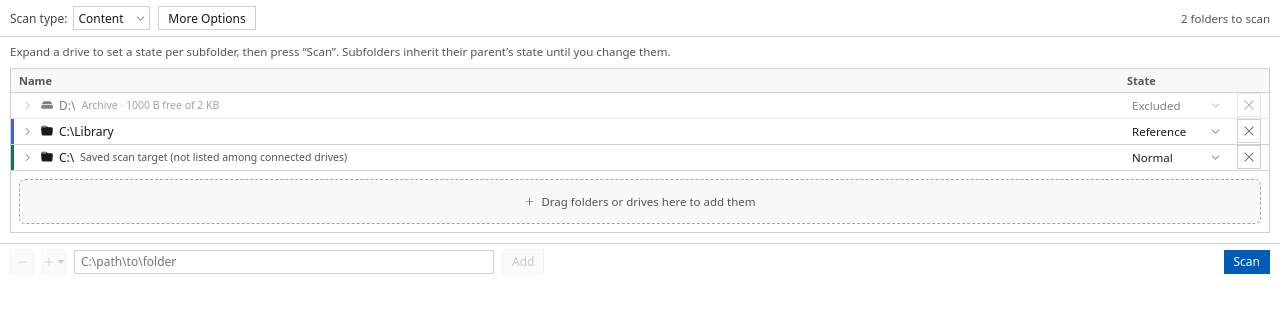
Test case: DuplicatesConfigPanel directory list › reports a folder that cannot be read
The width and height of the screenshot is (1280, 323).
Click the button named "Expand D:\\": (27, 105) [19, 97, 35, 113]
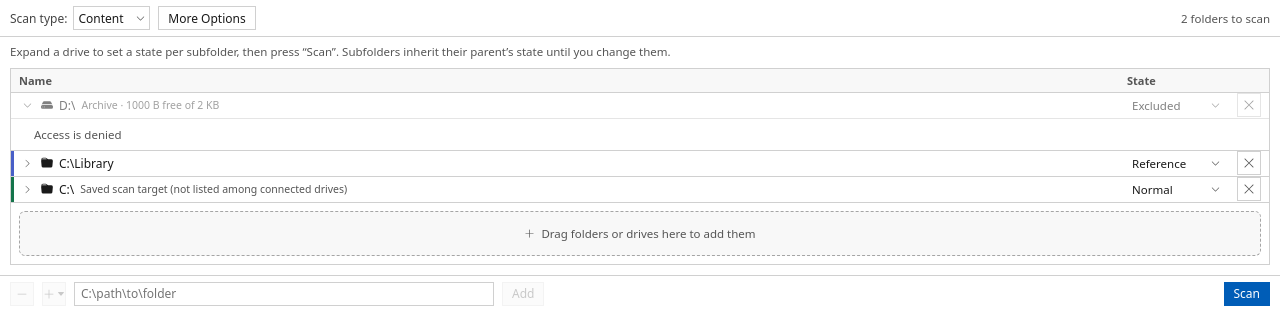
Result: the list item "Access is denied" is shown at [11, 119, 1269, 151]
